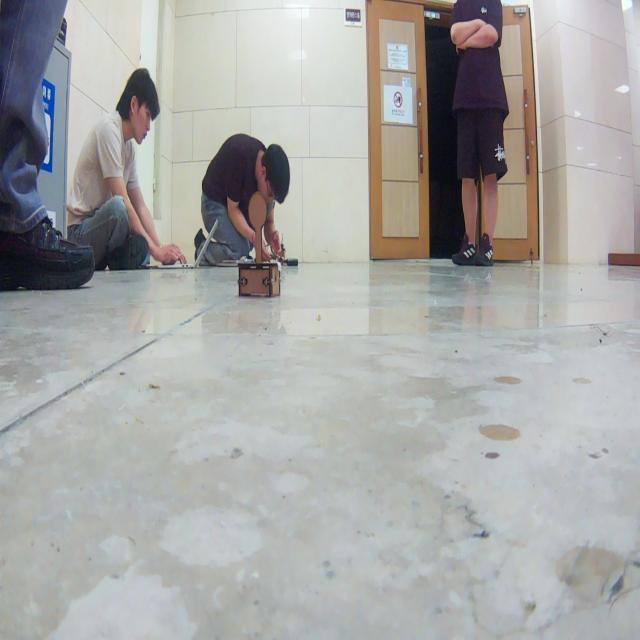target: (237, 191, 281, 297)
